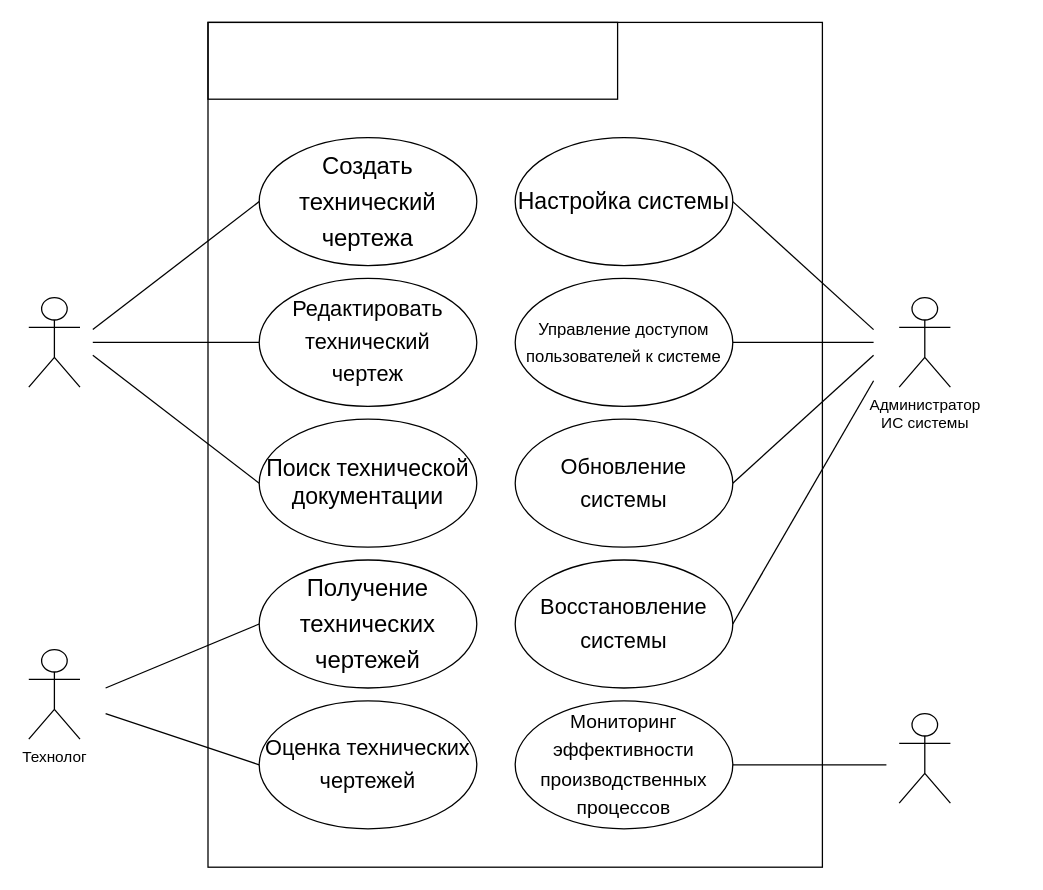
The diagram is 1043 pixels wide and 890 high, and some of its shapes have lost their labels. The centre of each missing label's shape, as x and y in pixels:
"Инженер" belongs at (x=54, y=341).
"Руководитель предприятия" belongs at (x=924, y=757).
"Чертежи и Технологии" belongs at (x=412, y=60).
